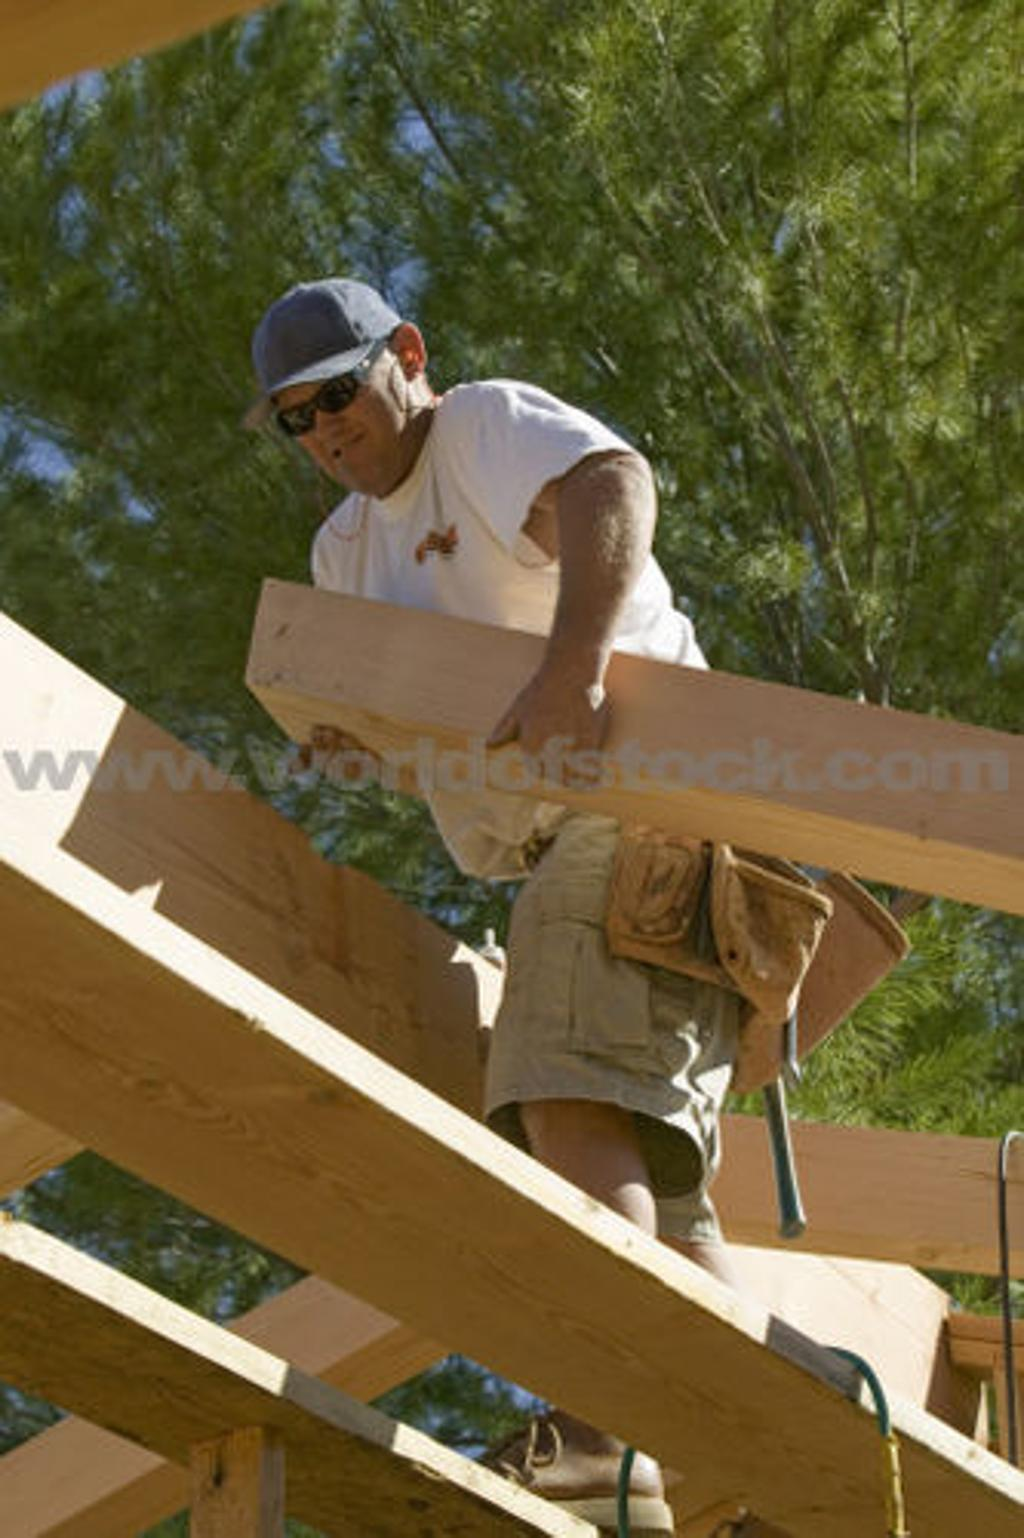face: (285, 324, 408, 492)
